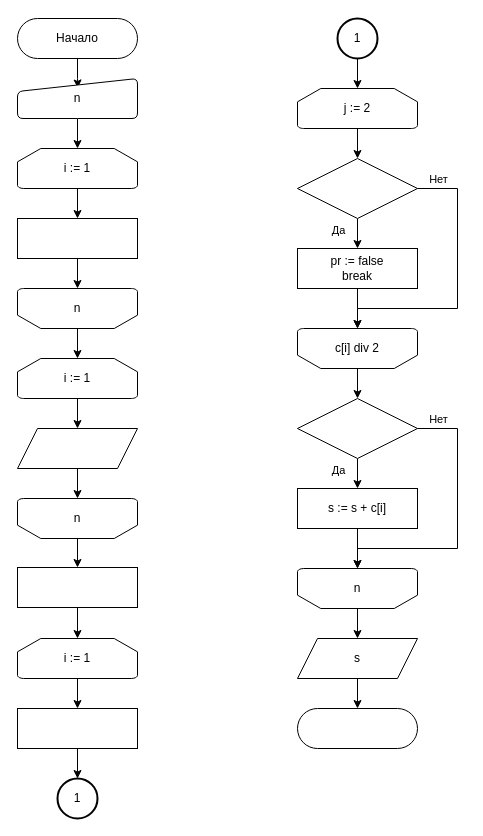
Some shapes in this 483 by 836 pixel diagram are drawn without their labels. The centre of each missing label's shape, as x and y in pixels:
c[i]: (77,448)
c[i] := random: (77,238)
c[i] mod j = 0: (357,188)
pr := true: (77,728)
pr = true: (357,428)
s := 0: (77,587)
Конец: (357,728)
